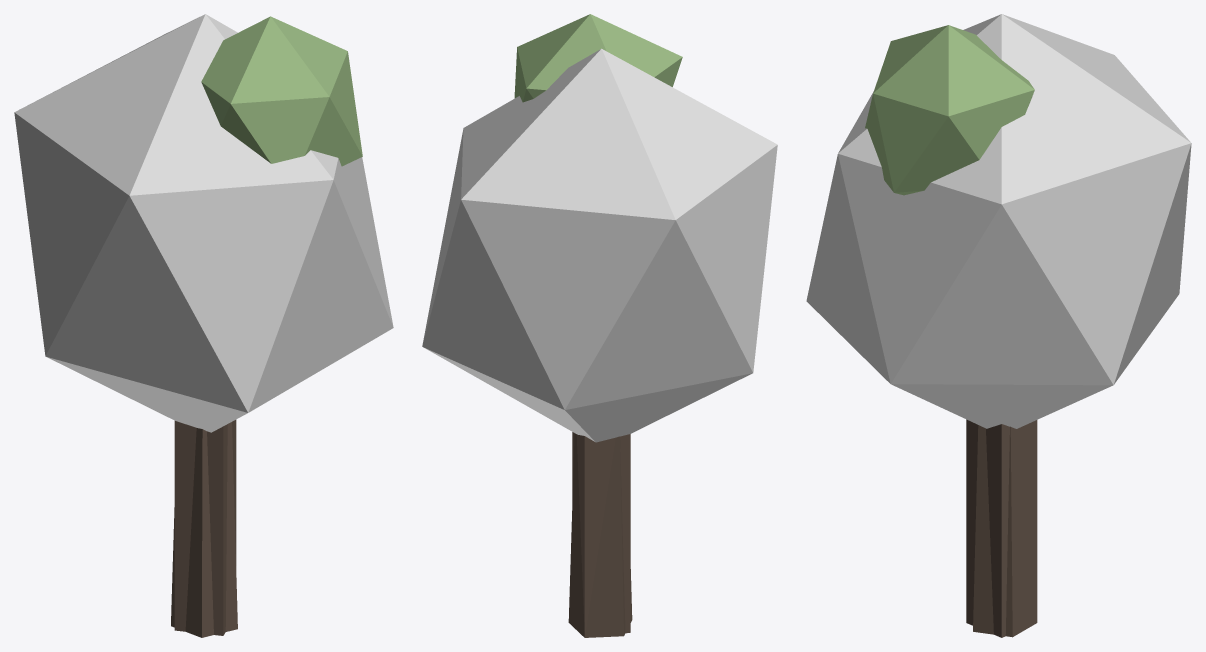
The model's file is tree_round.glb.
3 views of the same model, side by side, from view 1: azimuth 30°, elevation 25°; view 2: azimuth 150°, elevation 25°; view 3: azimuth 270°, elevation 25° (orthographic). The views are drawn at different scales.
Parts seen in each view (by area): view 1: far, detail_top, far_trunk, trunk; view 2: far, detail_top, trunk, far_trunk; view 3: far, detail_top, far_trunk, trunk.
Part boxes in pixels (x1,y1,x2,y2): far: (14,14,393,432); detail_top: (201,16,362,166); far_trunk: (174,420,236,635); trunk: (171,422,237,637); far: (422,48,777,442); detail_top: (514,14,682,102); trunk: (568,433,632,637); far_trunk: (572,432,630,637); far: (806,14,1191,428); detail_top: (865,25,1034,195); far_trunk: (966,419,1037,637); trunk: (973,425,1037,637).
Bounding box in the file's own units: 0.7963 × 1.53 × 0.8684.
